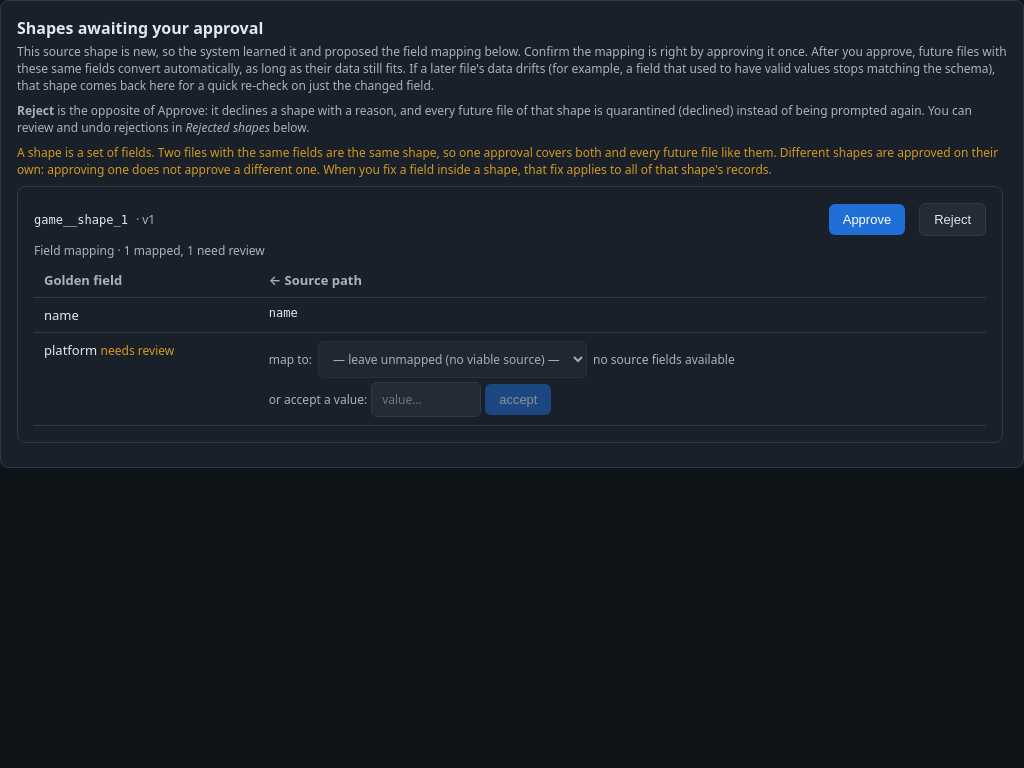
Test: ApprovalCards reject flow › submit stays disabled for other until the note is informative
Click the button "Reject" at (953, 220), box x1=919 y1=203 x2=986 y2=236
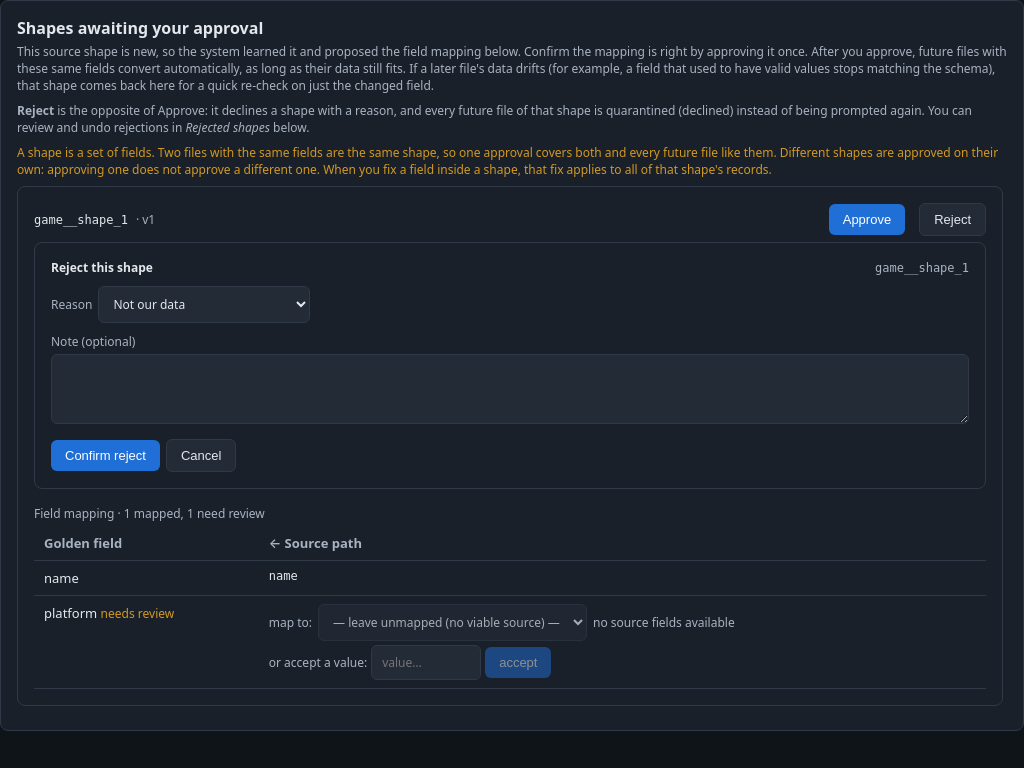
Select "Other (explain)" in the dropdown labelled "Reason" at (204, 304), box x1=98 y1=286 x2=310 y2=323
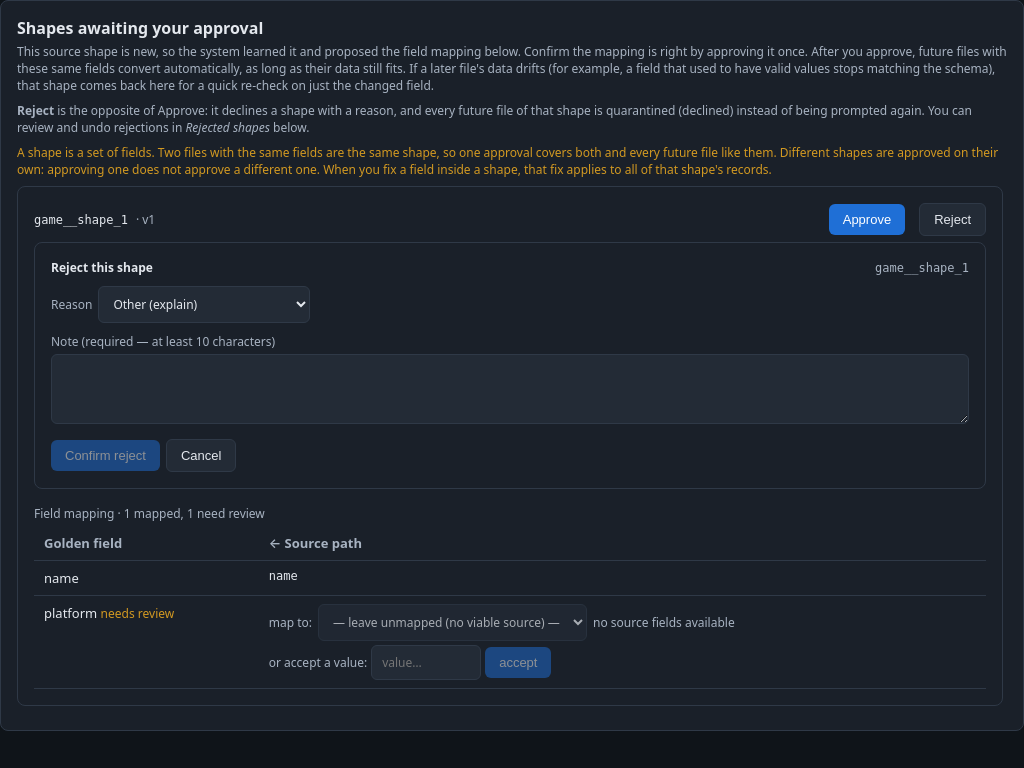
Check: the button "Confirm reject" is disabled, box x1=51 y1=440 x2=160 y2=471
Type "too short" into the text box with id "reject-note-game__shape_1" at (510, 389), box x1=51 y1=354 x2=969 y2=424
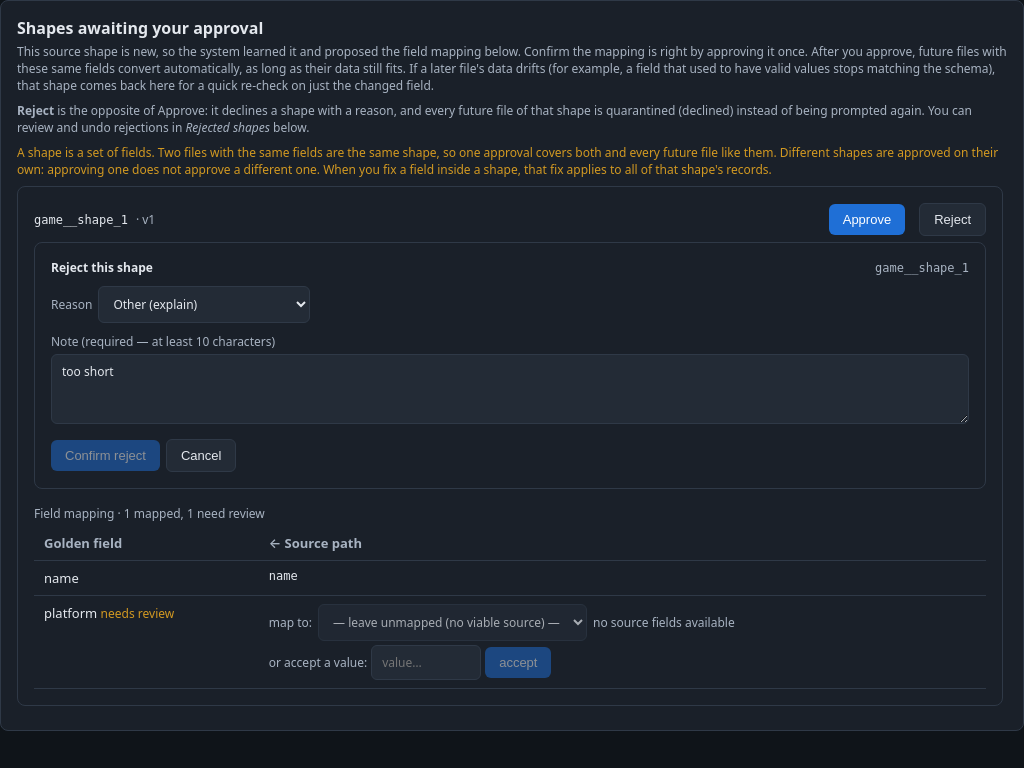
Check: the button "Confirm reject" is disabled, box x1=51 y1=440 x2=160 y2=471
Replace the text in the text box with id "reject-note-game__shape_1" with "this is fine" at (510, 389), box x1=51 y1=354 x2=969 y2=424
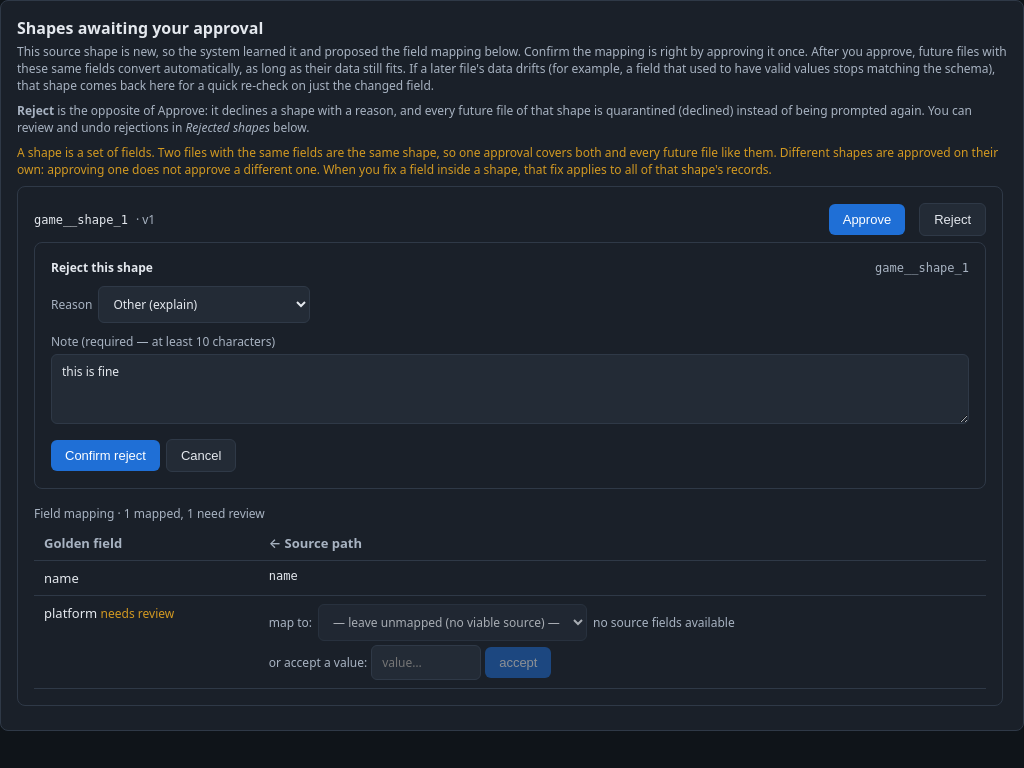
Check: the button "Confirm reject" is enabled, box x1=51 y1=440 x2=160 y2=471
